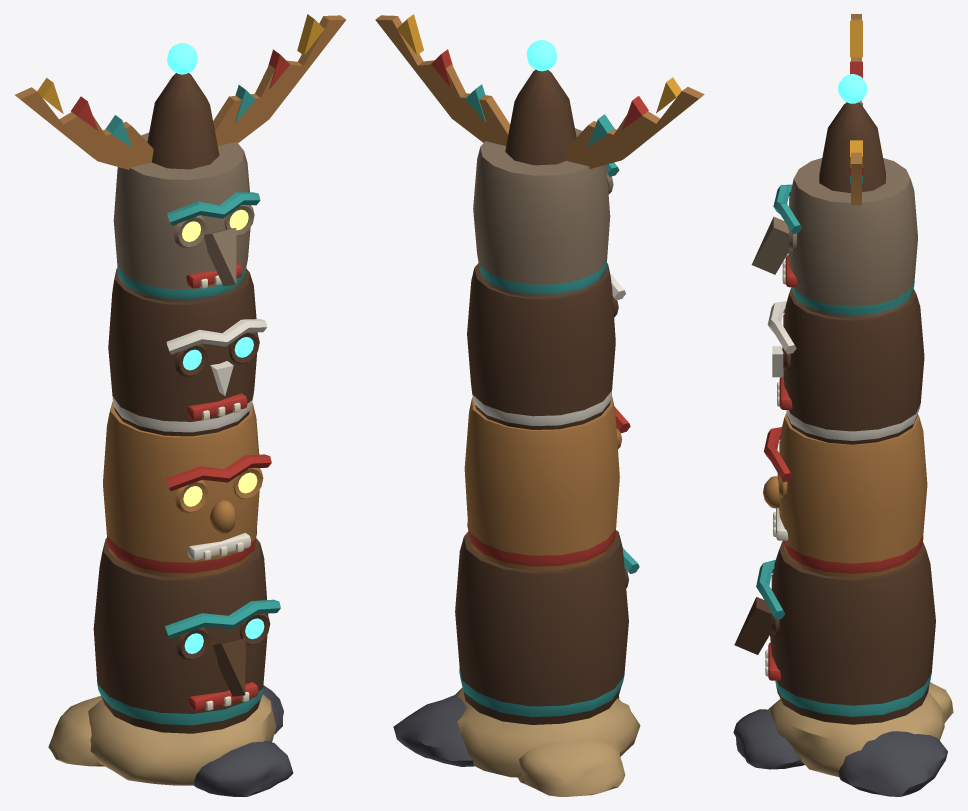
Rendered from deco_spirit_totem_tall.fbx.
The picture shows the model from 3 angles, left to right: view 1: azimuth 30°, elevation 25°; view 2: azimuth 150°, elevation 25°; view 3: azimuth 270°, elevation 25°; orthographic projection. The views are drawn at different scales.
Parts seen in each view (by area): view 1: SpiritTotem_Tall_Face1, SpiritTotem_Tall_Face2, SpiritTotem_Tall_Face3, SpiritTotem_Tall_Face4, SpiritTotem_Tall_Crown, SpiritTotem_Tall_Cairn; view 2: SpiritTotem_Tall_Face1, SpiritTotem_Tall_Face2, SpiritTotem_Tall_Face3, SpiritTotem_Tall_Face4, SpiritTotem_Tall_Crown, SpiritTotem_Tall_Cairn; view 3: SpiritTotem_Tall_Face1, SpiritTotem_Tall_Face2, SpiritTotem_Tall_Face4, SpiritTotem_Tall_Face3, SpiritTotem_Tall_Cairn, SpiritTotem_Tall_Crown.
Boxes of the visible parts, <box> form: SpiritTotem_Tall_Face1: <box>93,538,280,733</box>; SpiritTotem_Tall_Face2: <box>103,401,271,577</box>; SpiritTotem_Tall_Face3: <box>108,268,267,436</box>; SpiritTotem_Tall_Face4: <box>113,132,260,302</box>; SpiritTotem_Tall_Crown: <box>15,14,346,169</box>; SpiritTotem_Tall_Cairn: <box>48,685,293,796</box>; SpiritTotem_Tall_Face1: <box>455,530,639,724</box>; SpiritTotem_Tall_Face2: <box>464,396,630,570</box>; SpiritTotem_Tall_Face3: <box>467,263,625,429</box>; SpiritTotem_Tall_Face4: <box>473,128,619,297</box>; SpiritTotem_Tall_Crown: <box>375,14,704,168</box>; SpiritTotem_Tall_Cairn: <box>393,687,640,796</box>; SpiritTotem_Tall_Face1: <box>734,541,935,724</box>; SpiritTotem_Tall_Face2: <box>763,413,927,577</box>; SpiritTotem_Tall_Face4: <box>751,158,917,318</box>; SpiritTotem_Tall_Face3: <box>767,288,924,444</box>; SpiritTotem_Tall_Cairn: <box>733,682,953,796</box>; SpiritTotem_Tall_Crown: <box>819,14,885,205</box>.
Bounding box in the file's own units: 190 × 395 × 118.
